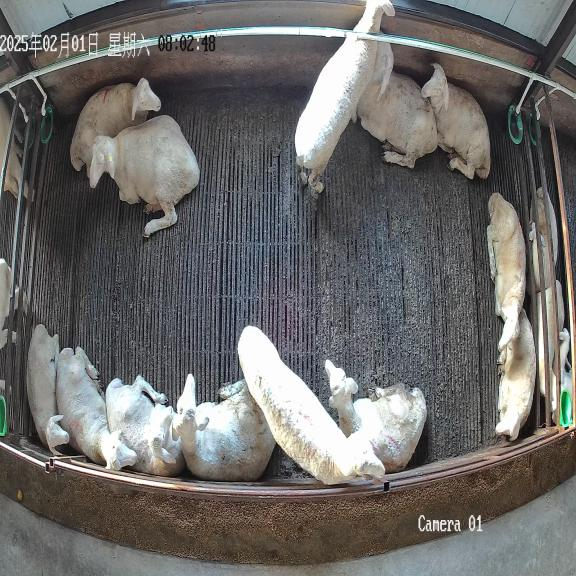lying: (89, 115, 200, 237), (325, 360, 426, 473), (172, 375, 275, 481), (355, 42, 437, 168), (56, 347, 137, 470), (70, 78, 161, 177), (421, 63, 490, 179), (105, 376, 185, 476), (487, 193, 526, 350), (27, 324, 70, 454), (496, 310, 536, 440)
stand: (238, 326, 385, 484), (295, 0, 395, 194)
